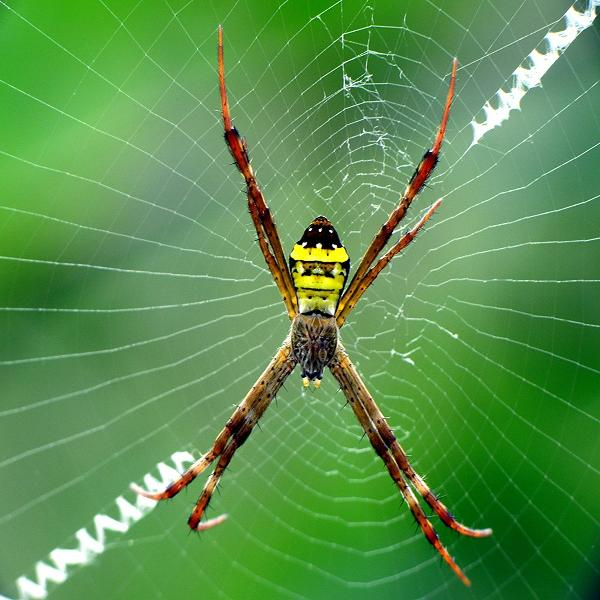St Andrew's Cross Spider: (172, 31, 490, 578)
